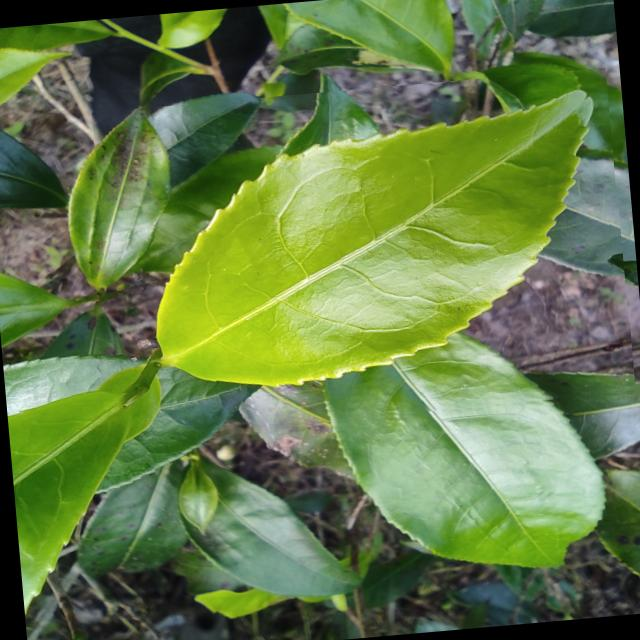Category B(2-4 days): (91, 66, 636, 442)
